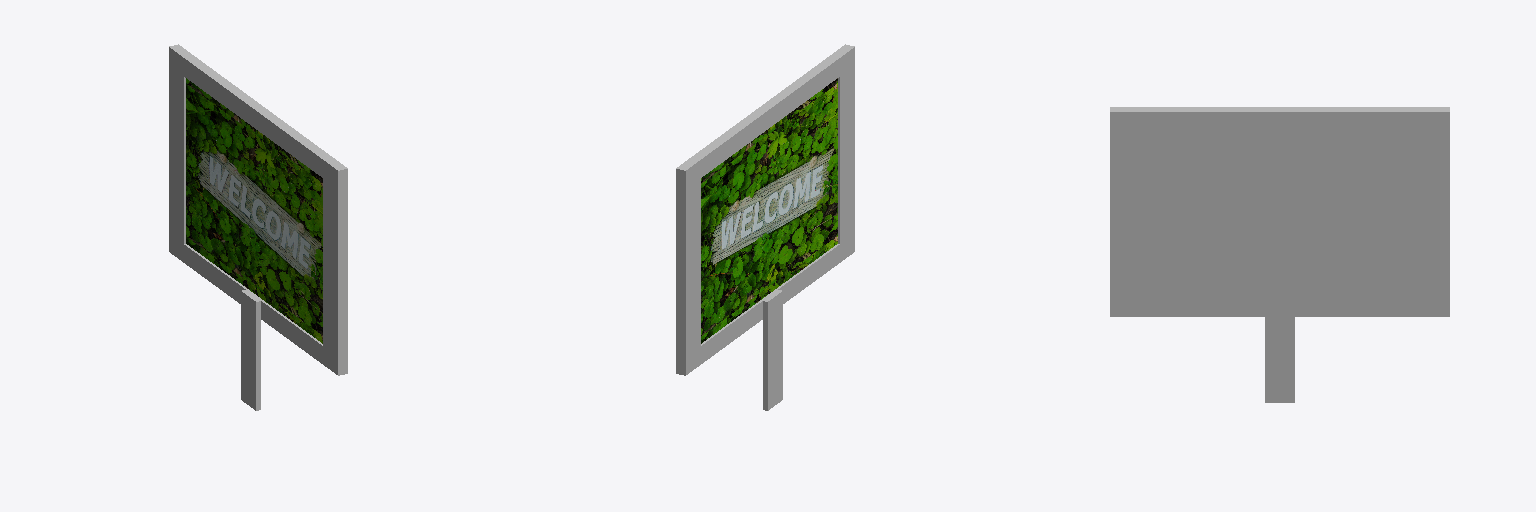
3 renders of one model, left to right at view 1: azimuth 30°, elevation 25°; view 2: azimuth 150°, elevation 25°; view 3: azimuth 270°, elevation 25°, orthographic.
Visible parts, largest first — view 1: Welcome; view 2: Welcome; view 3: Welcome.
Part boxes in pixels (left/top/right/bottom): Welcome: left=169, top=44, right=347, bottom=410; Welcome: left=676, top=44, right=854, bottom=410; Welcome: left=1110, top=107, right=1449, bottom=402.
Bounding box in the file's own units: 0.3 × 5.77 × 6.
Materials: 2 (1 with a texture image).